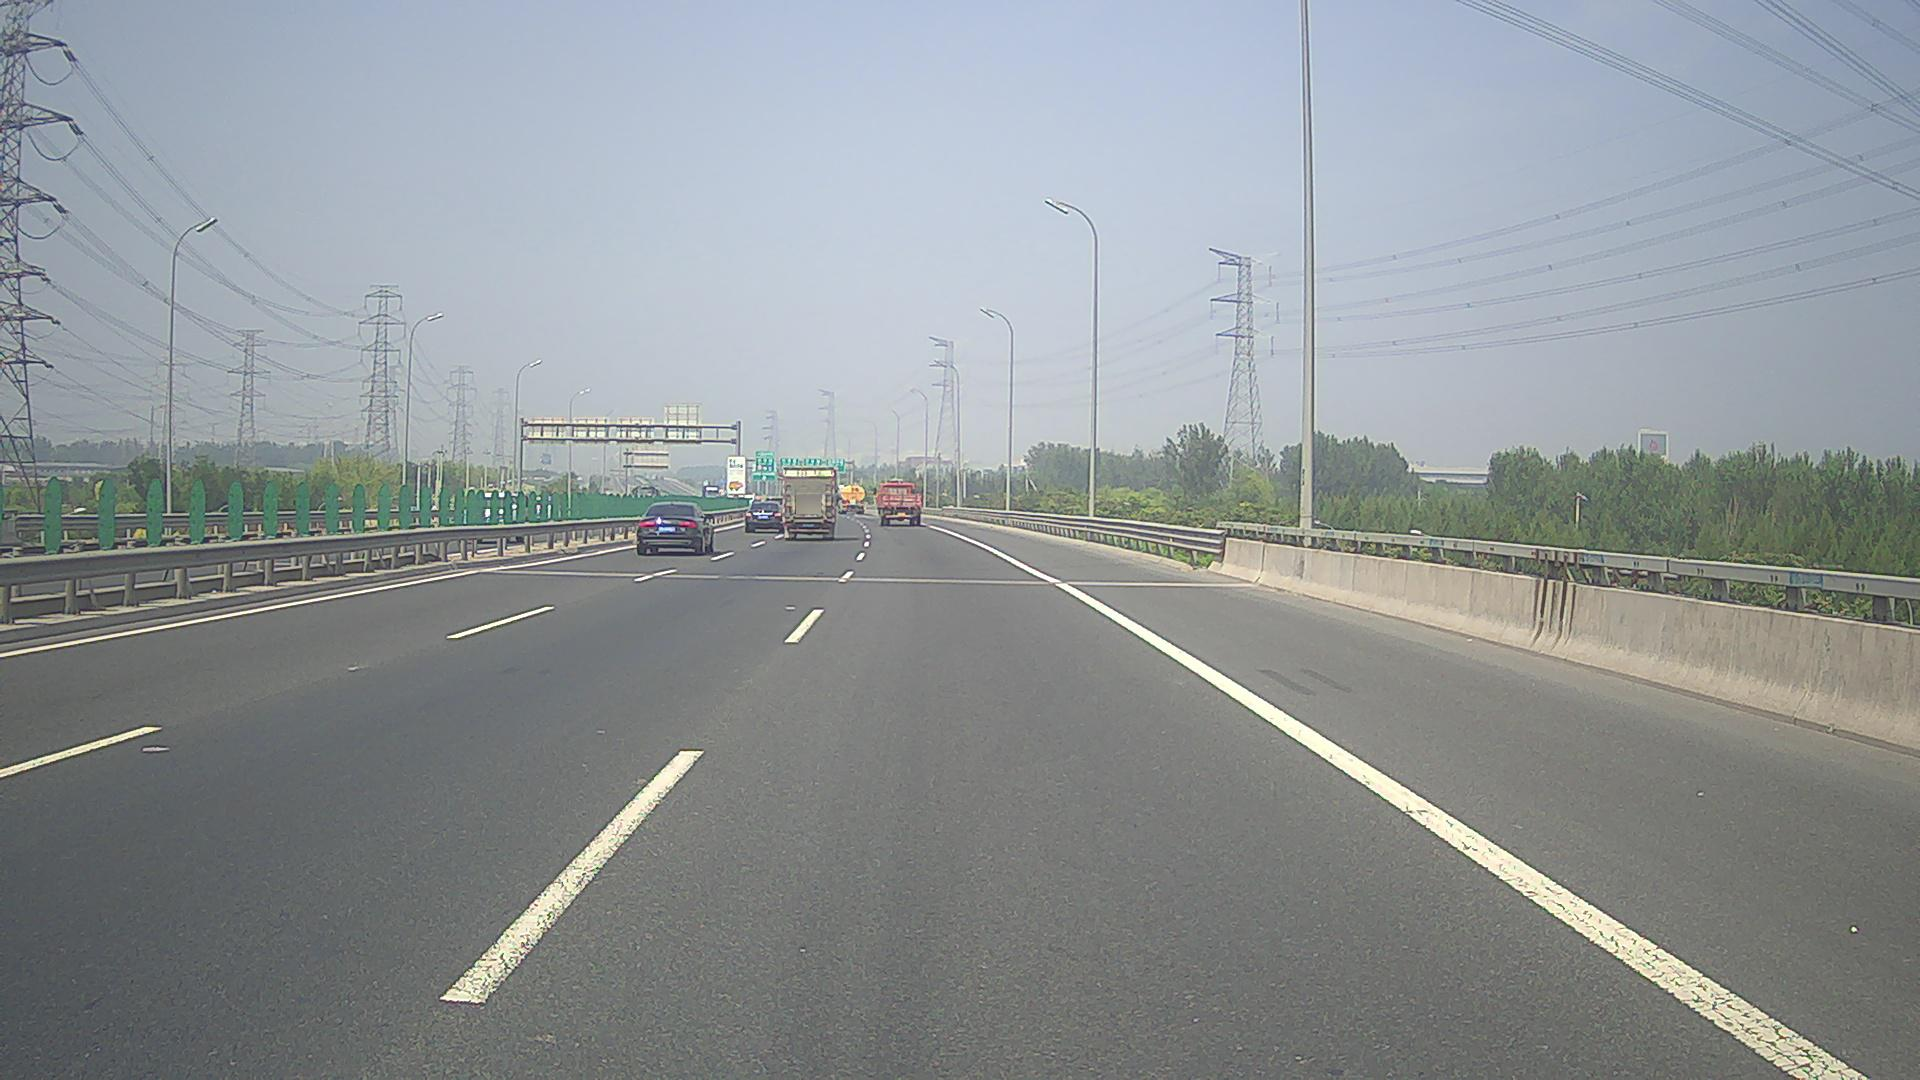car: (636, 501, 713, 555), (746, 501, 785, 531)
ignore: (463, 492, 524, 535)
truck: (782, 465, 837, 541), (874, 483, 920, 526), (837, 483, 866, 513)
